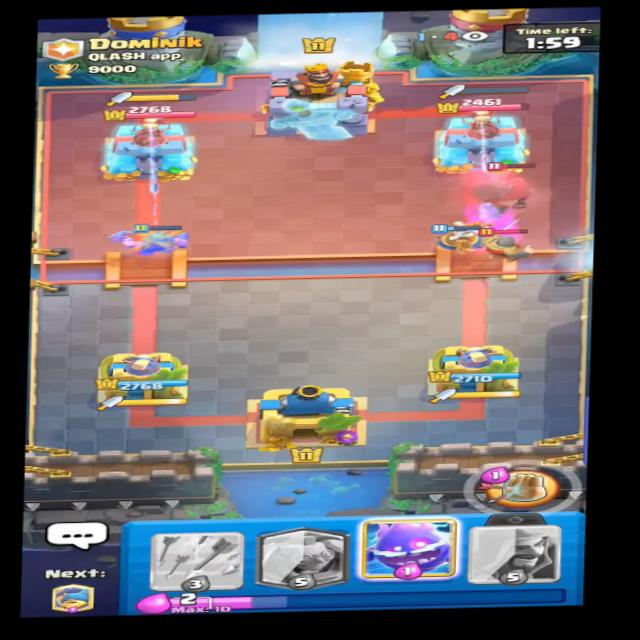Guardian: (472, 160, 535, 214)
Knight: (473, 226, 538, 267)
